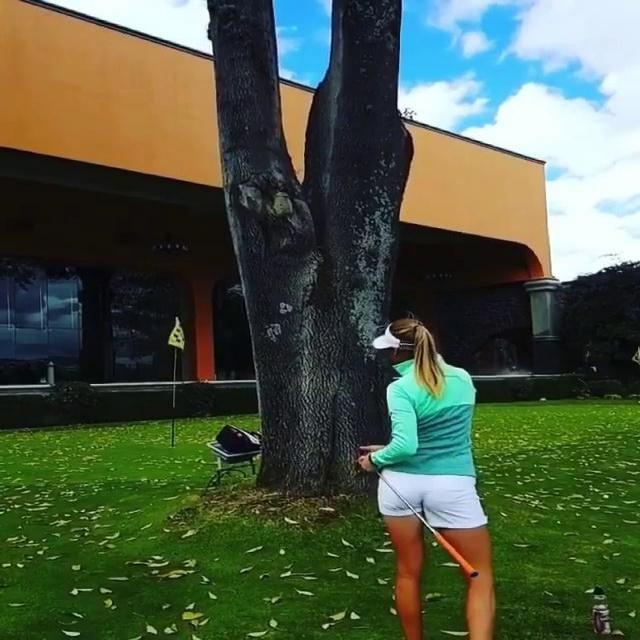ClubHandle: (376, 470, 478, 577)
